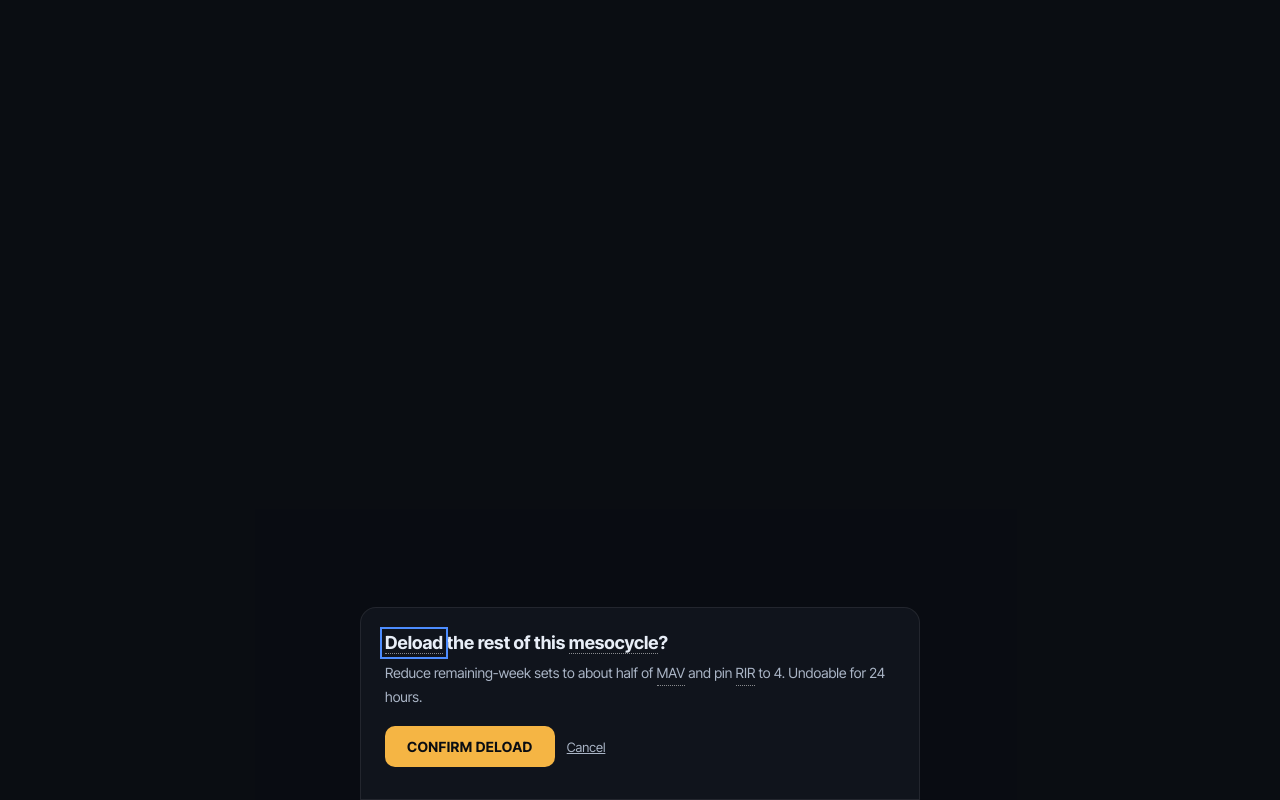
Test: <DeloadThisWeekSheet> › surfaces an error inline if the POST fails (sheet stays open)
What coordinates should you click on to do the following:
click the button "CONFIRM DELOAD"
I would click on:
 (470, 746)
Its box is [385,726,555,767].
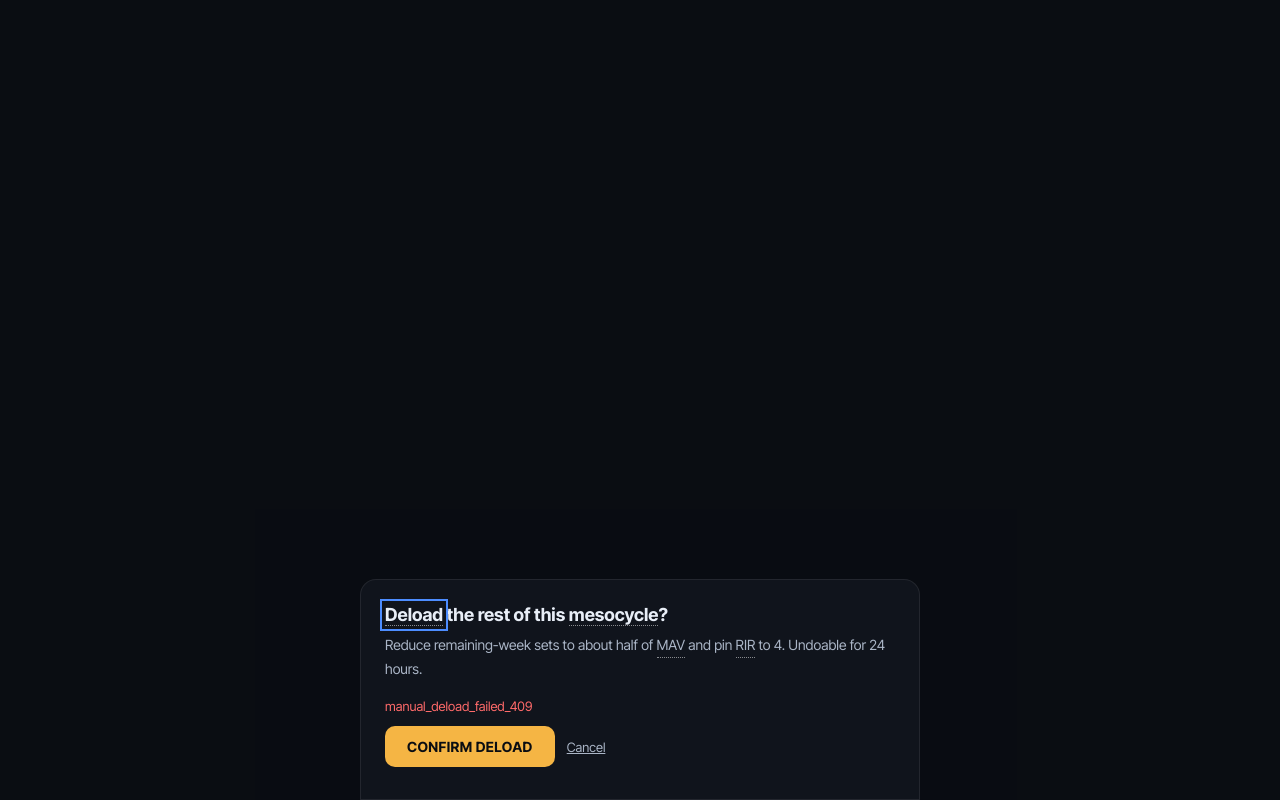
Check: the text "manual_deload_failed_409" is shown, box [385,698,532,714]
